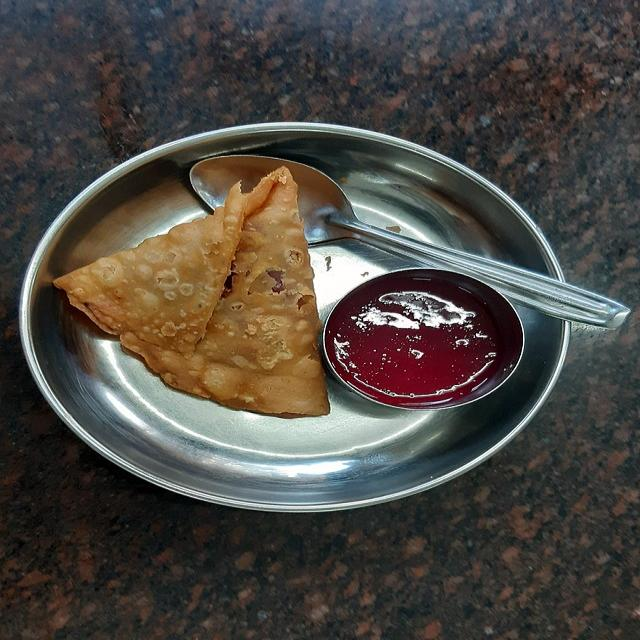samosa: (40, 173, 325, 447)
